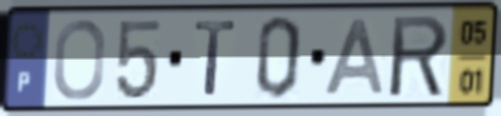0: (252, 13, 304, 103)
5: (112, 16, 164, 101)
A: (321, 16, 387, 98)
O: (51, 16, 108, 103)
R: (389, 12, 452, 100)
T: (191, 17, 239, 99)
